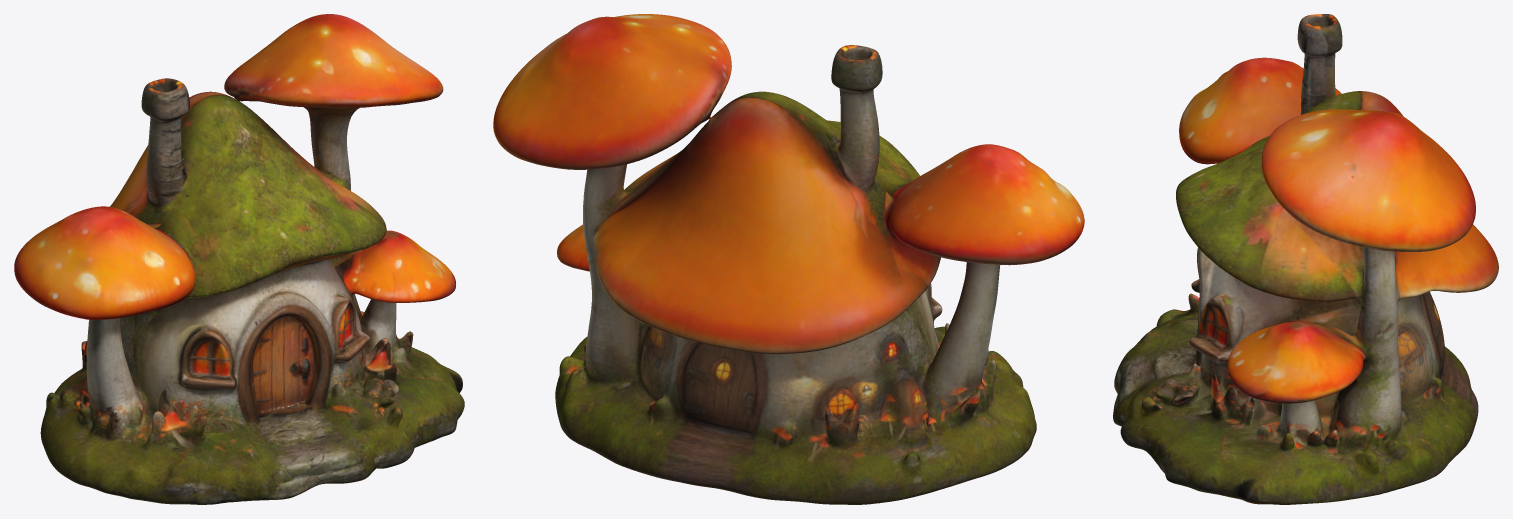
File: Create_a_whimsical_f_1219040232_texture.fbx
The picture shows the model from 3 angles, left to right: view 1: azimuth 30°, elevation 25°; view 2: azimuth 150°, elevation 25°; view 3: azimuth 270°, elevation 25°; orthographic projection. The views are drawn at different scales.
Parts seen in each view (by area): view 1: Mesh1_Mesh1.054; view 2: Mesh1_Mesh1.054; view 3: Mesh1_Mesh1.054.
Boxes of the visible parts, x1,y1,x2,y2 form: Mesh1_Mesh1.054: (14,14,464,504); Mesh1_Mesh1.054: (493,14,1084,504); Mesh1_Mesh1.054: (1113,14,1498,504).
Bounding box in the file's own units: 200 × 151 × 147.
1 material, 1 textured.
